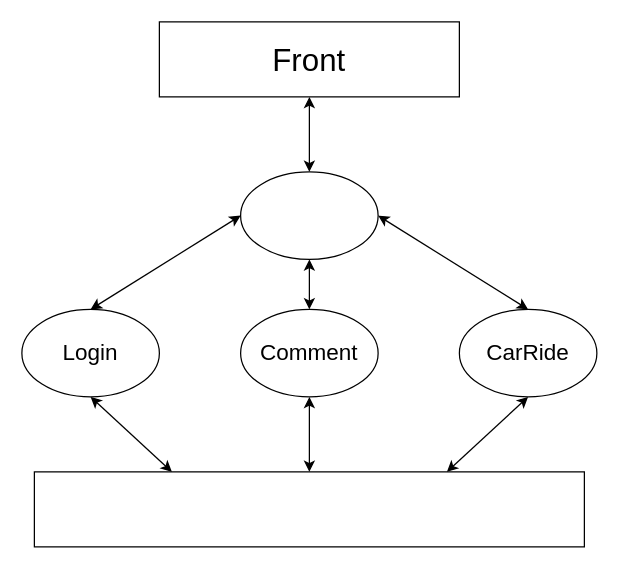
The diagram is 619 pixels wide and 569 high, and some of its shapes have lost their labels. The centre of each missing label's shape, as x and y in pixels:
BDD: pixel 308 509
GateWay: pixel 308 215
